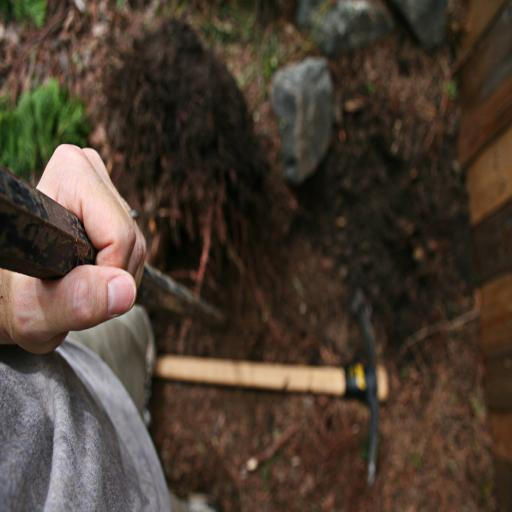Axe: (152, 287, 389, 487)
